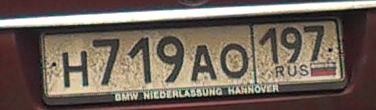character: (92, 35, 122, 90), (126, 31, 155, 86), (157, 34, 186, 84), (61, 47, 90, 91), (190, 41, 218, 84), (221, 41, 250, 82), (280, 25, 304, 64), (257, 26, 279, 67), (304, 24, 325, 62)
